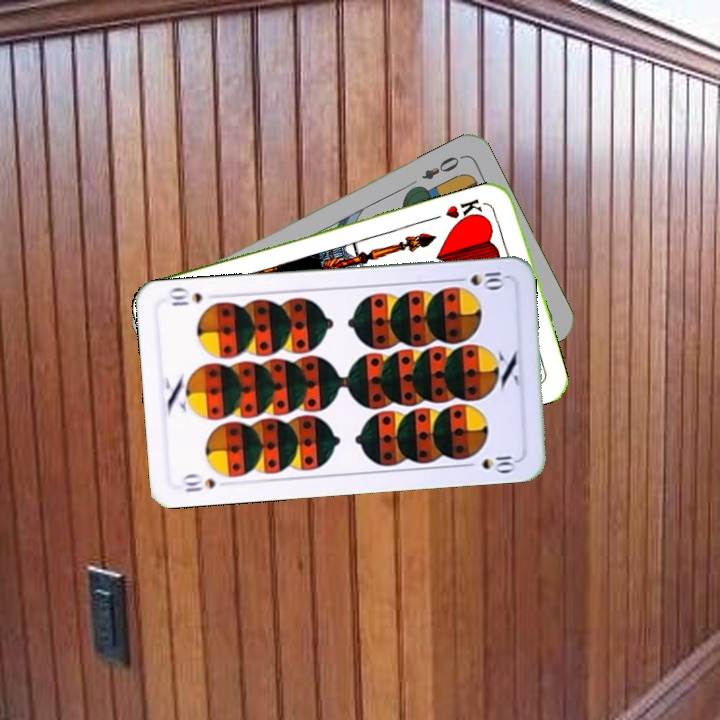EO: (418, 151, 466, 182)
HK: (441, 195, 487, 227)
S10: (450, 268, 509, 290), (179, 471, 217, 495)
